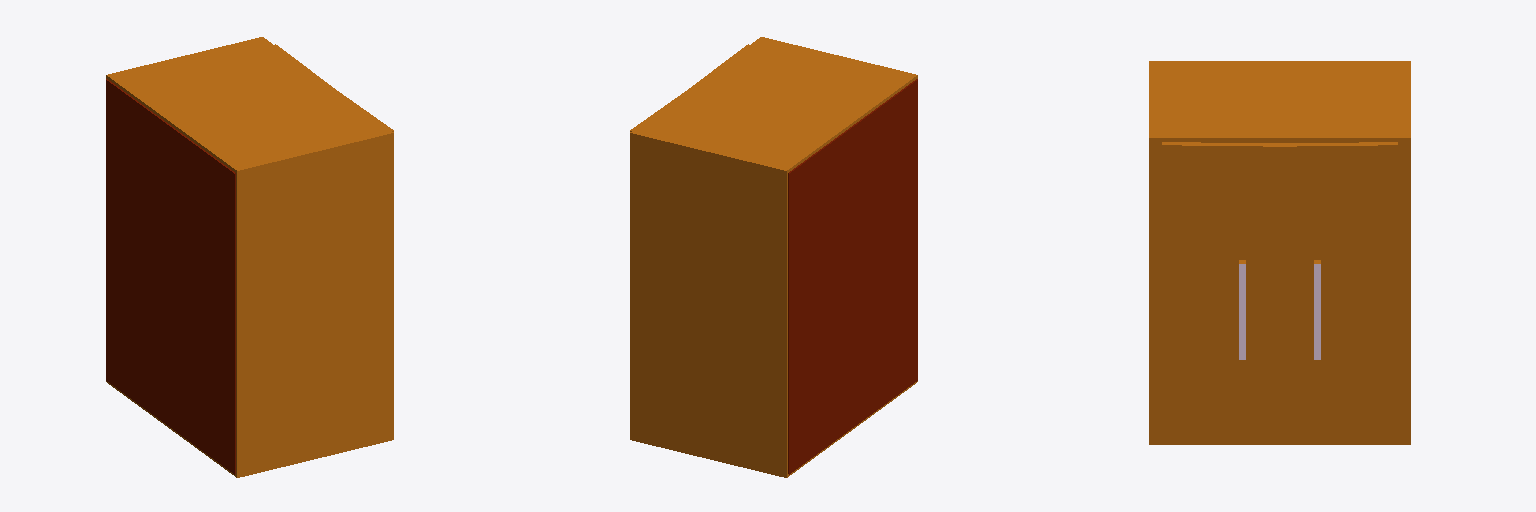
The model's file is WARDROBE.obj.
3 views of the same model, side by side, from view 1: azimuth 30°, elevation 25°; view 2: azimuth 150°, elevation 25°; view 3: azimuth 270°, elevation 25° (orthographic).
Parts seen in each view (by area): view 1: Cube_Cube, Cube.002_Cube.008; view 2: Cube_Cube, Cube.002_Cube.008; view 3: Cube.003_Cube.006, Cube.001_Cube.007, Cube_Cube.
Part boxes in pixels (left/top/right/bottom): Cube_Cube: left=106, top=37, right=393, bottom=477; Cube.002_Cube.008: left=106, top=79, right=235, bottom=474; Cube_Cube: left=630, top=37, right=917, bottom=477; Cube.002_Cube.008: left=788, top=79, right=917, bottom=474; Cube.003_Cube.006: left=1280, top=142, right=1397, bottom=443; Cube.001_Cube.007: left=1162, top=142, right=1279, bottom=443; Cube_Cube: left=1149, top=61, right=1410, bottom=444.
Bounding box in the file's own units: 1.11 × 1.9 × 1.47.